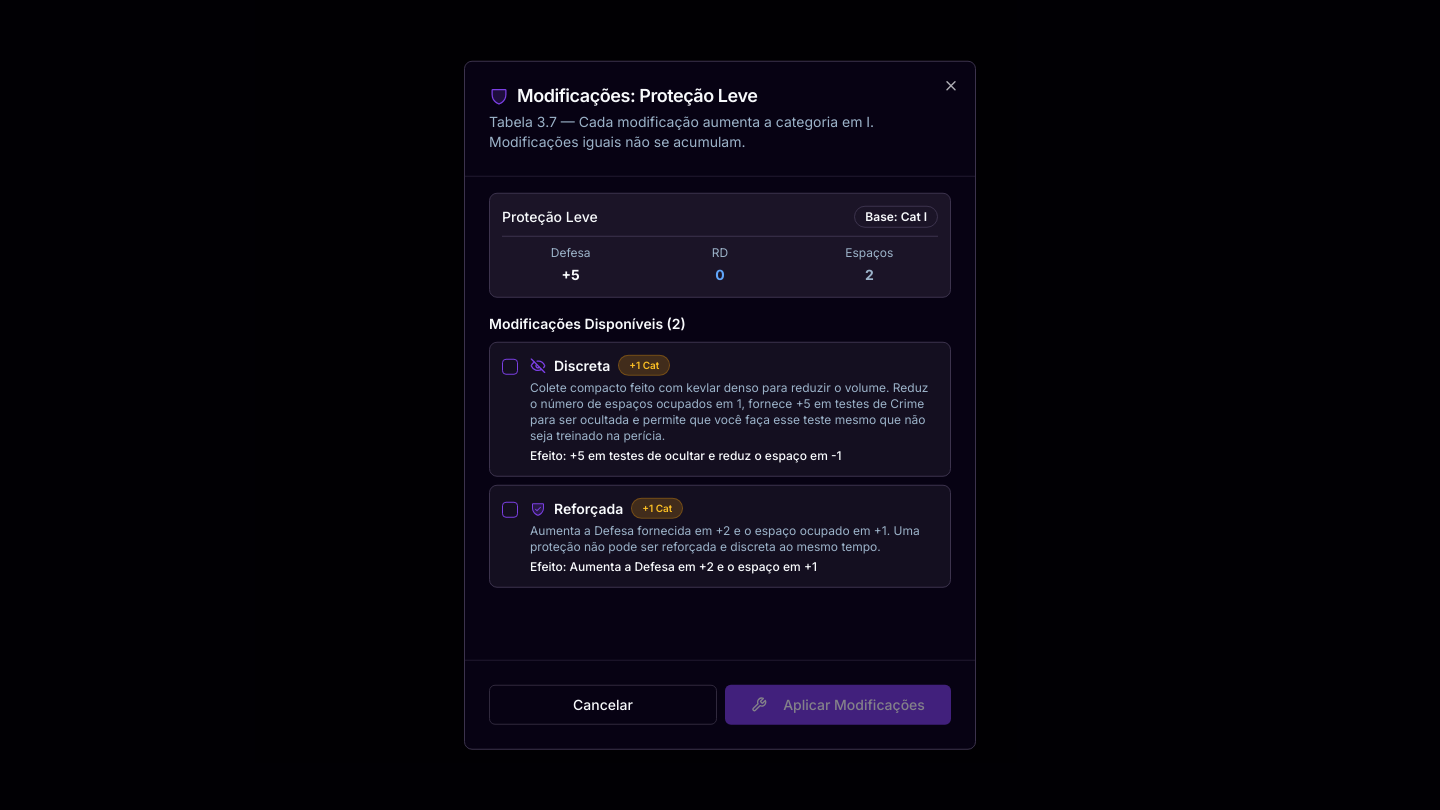
Scenario: Reabrir modificações › reforcada bloqueia a alternativa na seleção e após reabrir
Later steps or results of the test are not shown.
Click the 2nd checkbox at (510, 510), box [502,502,518,518]
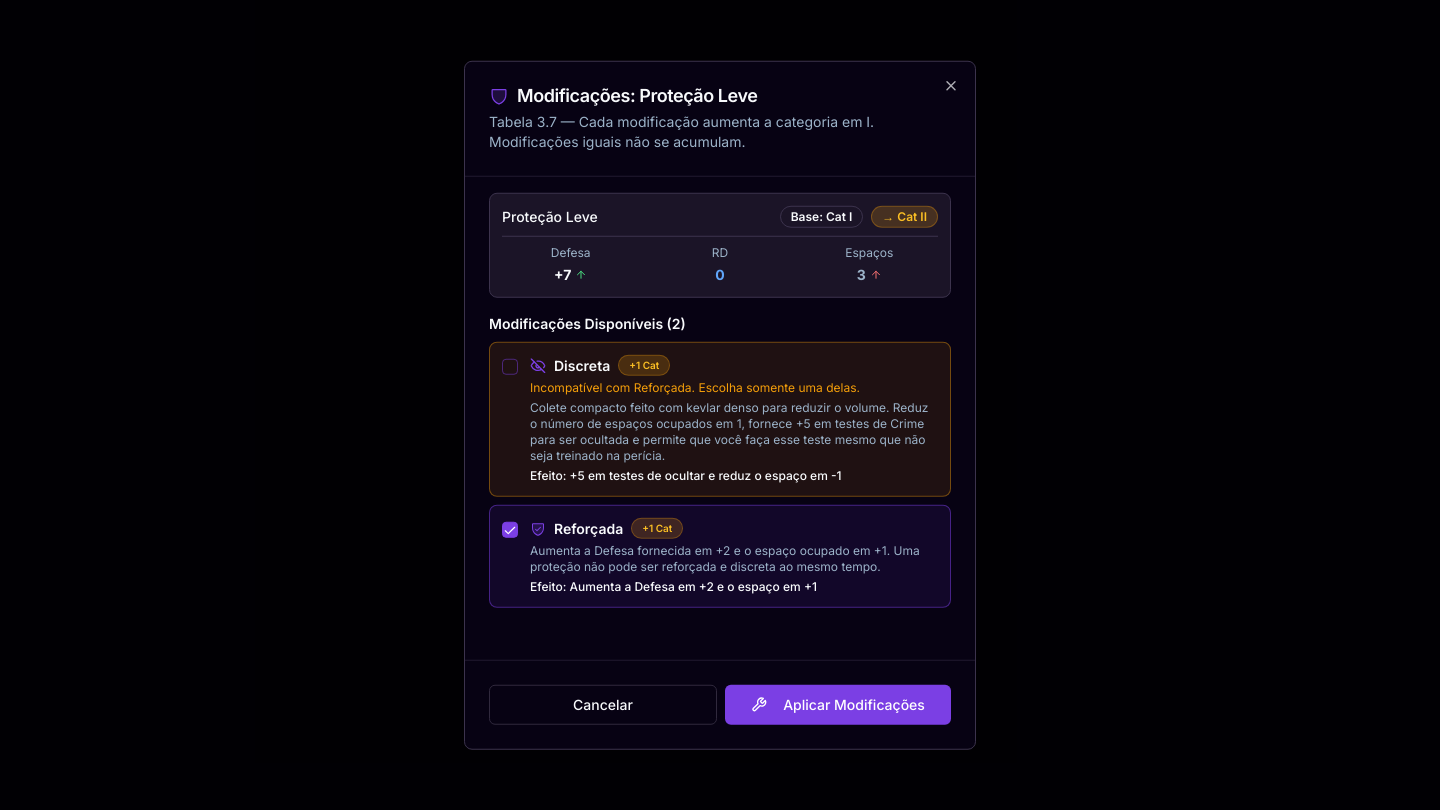
Check: the 1st checkbox is disabled
Click the 1st checkbox at (510, 367), box [502,359,518,375]
Click the 2nd checkbox at (510, 530), box [502,522,518,538]
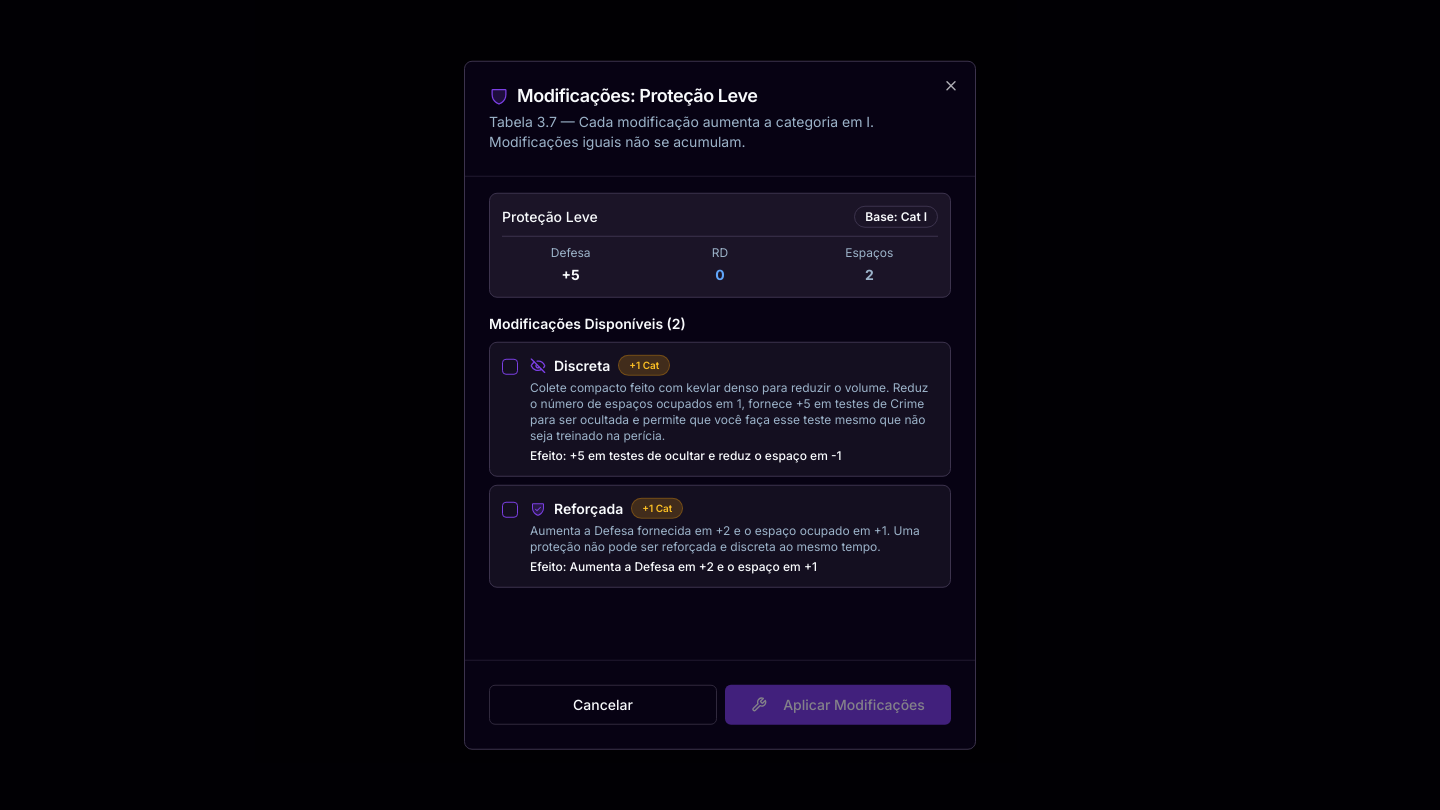
Check: the 1st checkbox is enabled, box [502,359,518,375]
